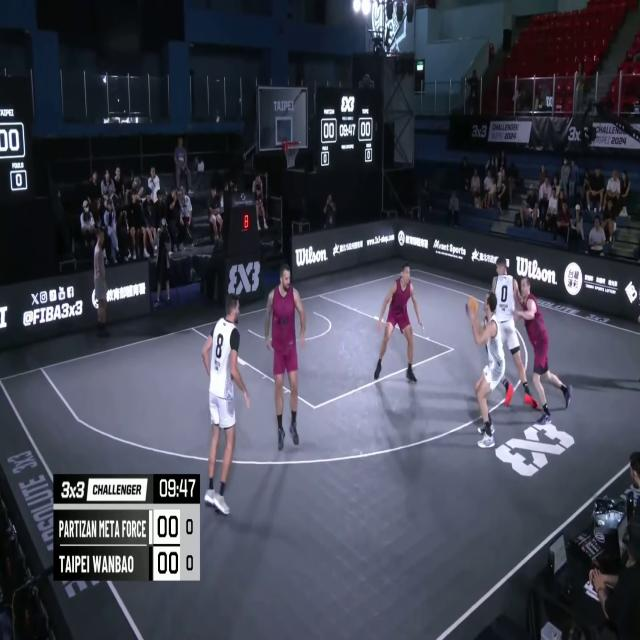ball: (465, 293, 478, 318)
hoop: (281, 137, 300, 171)
player: (202, 297, 250, 514), (515, 276, 571, 424), (264, 264, 305, 452), (488, 263, 540, 410), (465, 291, 505, 451), (377, 265, 422, 387)
